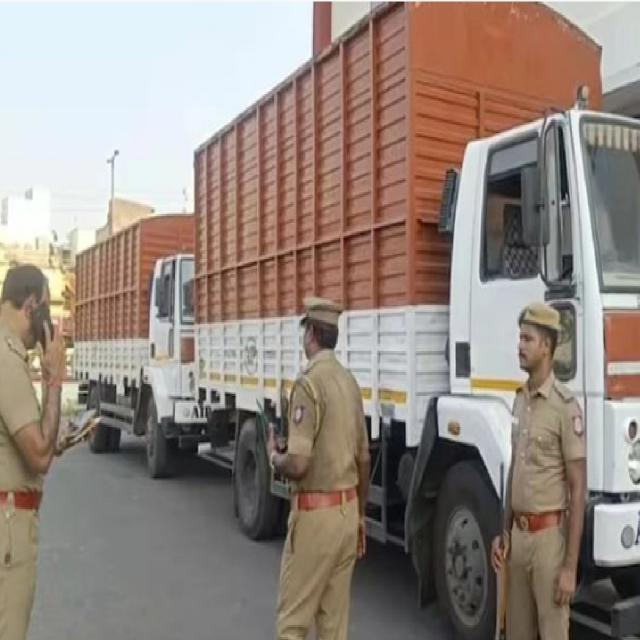truck: (191, 4, 640, 634), (75, 215, 208, 477)
